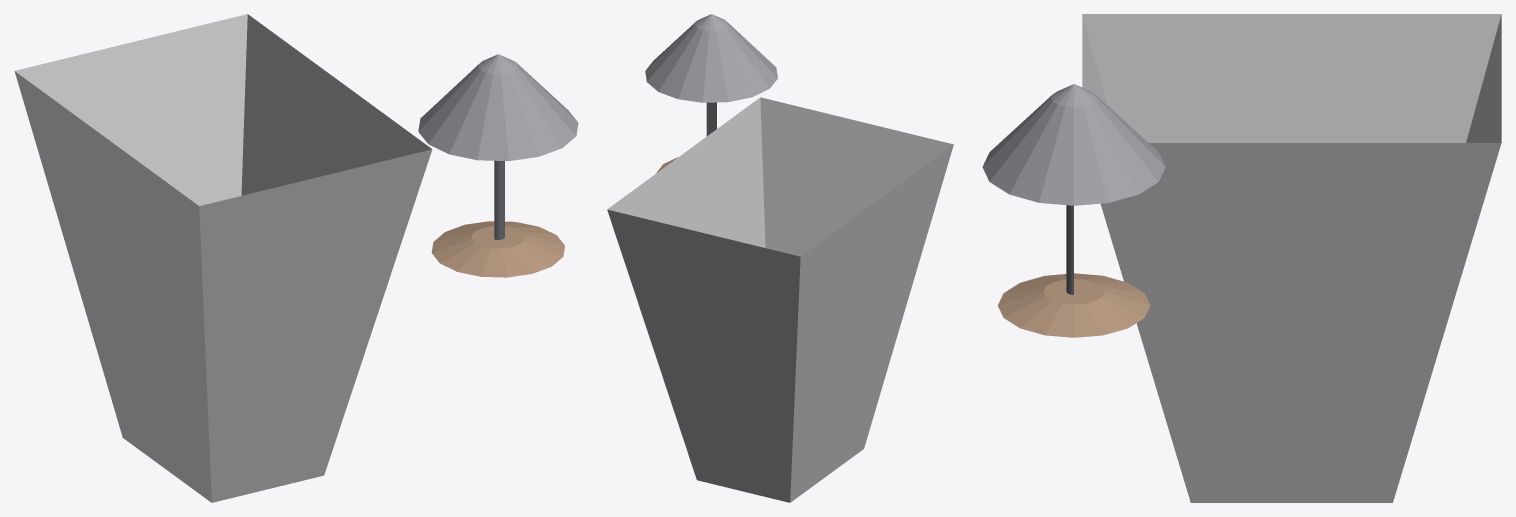
File: LAMPV1.fbx
The picture shows the model from 3 angles, left to right: view 1: azimuth 30°, elevation 25°; view 2: azimuth 150°, elevation 25°; view 3: azimuth 270°, elevation 25°; orthographic projection. The views are drawn at different scales.
Visible parts, largest first — view 1: Cube, dungeon_deco_lamp; view 2: Cube, dungeon_deco_lamp; view 3: Cube, dungeon_deco_lamp.
Part boxes in pixels (<box>): Cube: <box>14,14,432,502</box>; dungeon_deco_lamp: <box>418,54,578,277</box>; Cube: <box>607,97,953,502</box>; dungeon_deco_lamp: <box>645,14,777,172</box>; Cube: <box>1082,14,1501,502</box>; dungeon_deco_lamp: <box>982,84,1165,337</box>.
Size of the model in its own units: 313 by 352 by 340.
